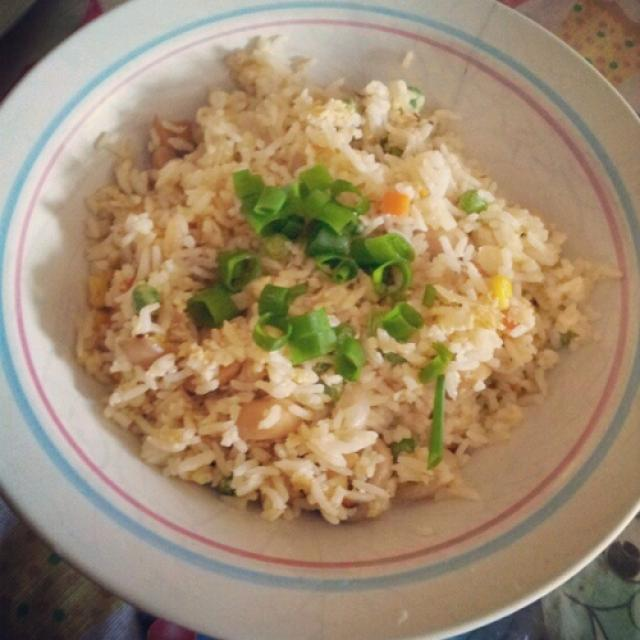米饭主食: (32, 5, 616, 626)
